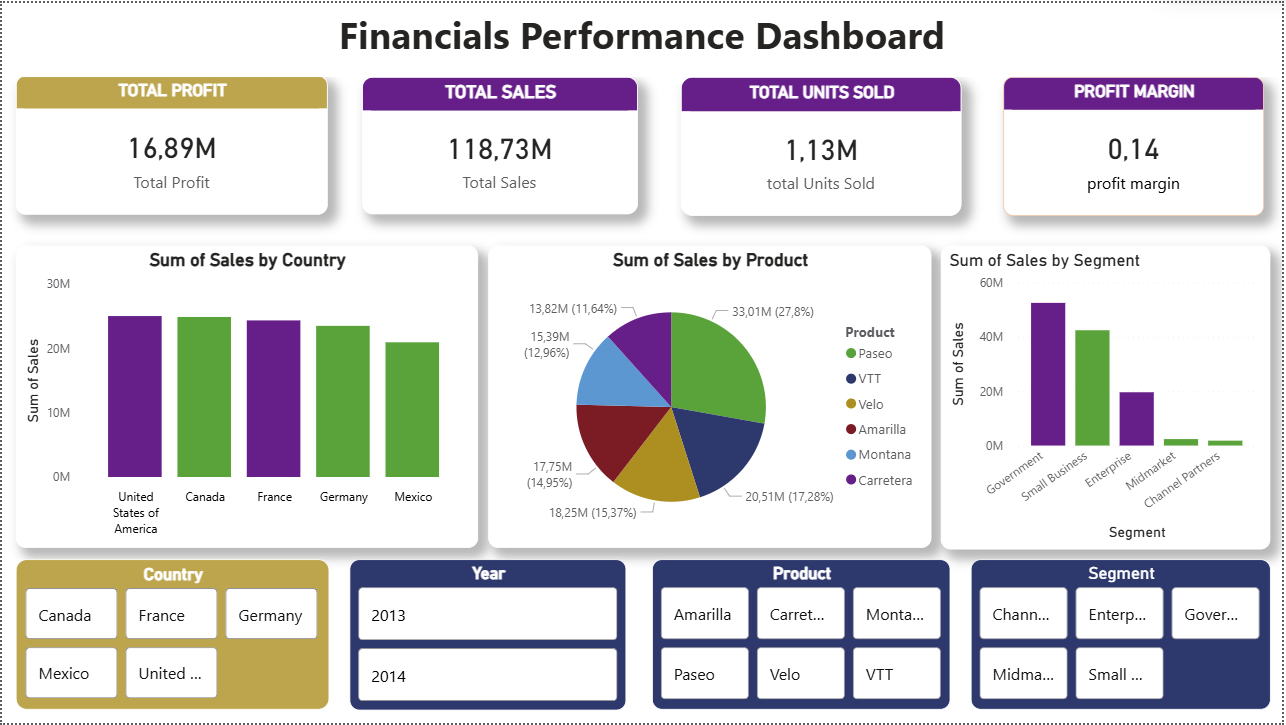

This screenshot's page, from the dashboard's own definition file:
{"tool":"powerbi","page":{"name":"Page 2","canvas":[1280,720],"ordinal":0},"visuals":[{"type":"card","title":"TOTAL PROFIT ","fields":{"Values":["financials .Total Profit"]},"box":[13.5,73,312.2,139.2],"z":0},{"type":"card","title":"TOTAL SALES","fields":{"Values":["financials .Total Sales"]},"box":[359.5,74.3,275.7,137.8],"z":1000},{"type":"card","title":"TOTAL UNITS SOLD","fields":{"Values":["financials .total Units Sold"]},"box":[678.4,74.3,281.1,139.2],"z":2000},{"type":"card","title":"PROFIT MARGIN","fields":{"Values":["financials .profit margin"]},"box":[1001.4,74.3,260.8,139.2],"z":3000},{"type":"clusteredColumnChart","fields":{"Category":["dimCountry.Country"],"Y":["Sum(financials . Sales)"]},"box":[13.5,241.9,462.2,302.7],"z":4000},{"type":"pieChart","fields":{"Category":["dimProduct.Product"],"Y":["Sum(financials . Sales)"]},"box":[486.5,241.9,443.2,302.7],"z":5000},{"type":"clusteredColumnChart","fields":{"Category":["dimSegment.Segment"],"Y":["Sum(financials . Sales)"]},"box":[939.2,241.9,329.7,304.1],"z":6000},{"type":"advancedSlicerVisual","fields":{"Values":["dimCountry.Country"]},"box":[13.5,556.8,313.5,150],"z":7000},{"type":"advancedSlicerVisual","fields":{"Values":["dimDate.Year"]},"box":[347.3,556.8,277,151.4],"z":8000},{"type":"advancedSlicerVisual","fields":{"Values":["dimProduct.Product"]},"box":[650,556.8,298.6,150],"z":9000},{"type":"textbox","box":[0,1.4,1279.7,73],"z":10000},{"type":"advancedSlicerVisual","fields":{"Values":["dimSegment.Segment"]},"box":[968.9,556.8,300,150],"z":11000}]}

Visuals, with their boxes in screenshot pixels (x1, y1, x2, y2), scaled from the page's 1280x720 canvas onto the 1286x725 screenshot:
"TOTAL PROFIT " card: <box>14,74,327,214</box>
"TOTAL SALES" card: <box>361,75,638,214</box>
"TOTAL UNITS SOLD" card: <box>682,75,964,215</box>
"PROFIT MARGIN" card: <box>1006,75,1268,215</box>
clusteredColumnChart - dimCountry.Country x Sum(financials . Sales): <box>14,244,478,548</box>
pieChart - dimProduct.Product x Sum(financials . Sales): <box>489,244,934,548</box>
clusteredColumnChart - dimSegment.Segment x Sum(financials . Sales): <box>944,244,1275,550</box>
advancedSlicerVisual - dimCountry.Country: <box>14,561,329,712</box>
advancedSlicerVisual - dimDate.Year: <box>349,561,627,713</box>
advancedSlicerVisual - dimProduct.Product: <box>653,561,953,712</box>
textbox: <box>0,1,1285,75</box>
advancedSlicerVisual - dimSegment.Segment: <box>973,561,1275,712</box>
